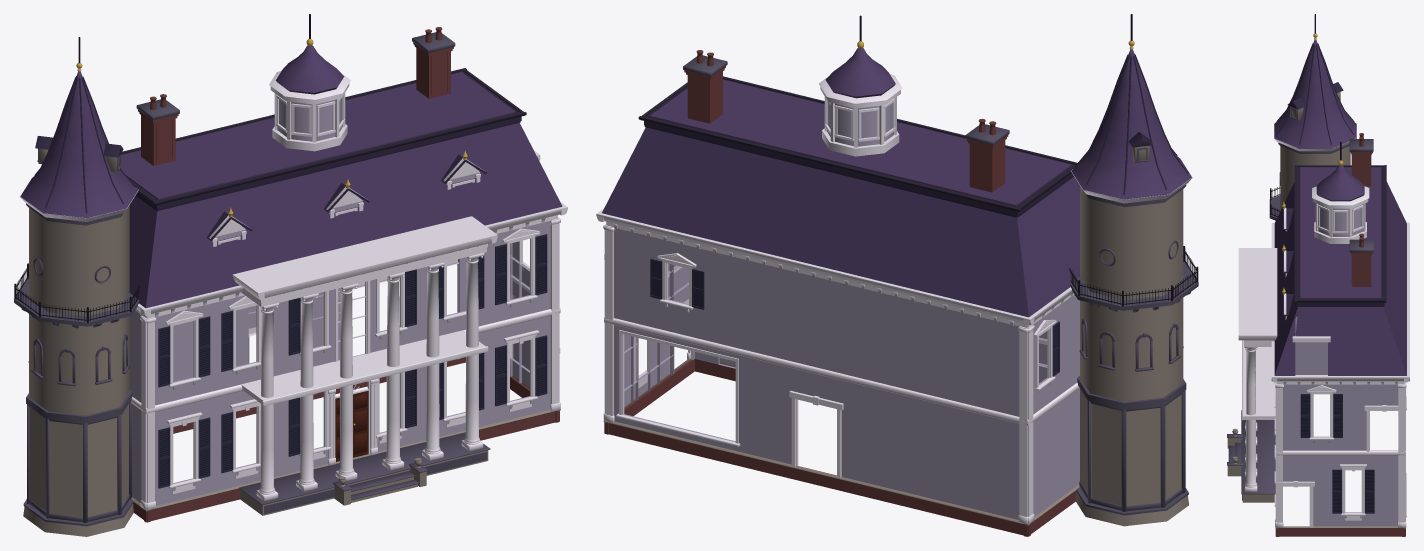
Rendered from exterior.glb.
3 renders of one model, left to right at view 1: azimuth 30°, elevation 25°; view 2: azimuth 150°, elevation 25°; view 3: azimuth 270°, elevation 25°, orthographic. The views are drawn at different scales.
Visible parts, largest first — view 1: Ext_front, Ext_mansard-front, Ext_roof, Ext_tower-upper, Ext_porch, Ext_back, Ext_tower7, Ext_tower0, Ext_left, Ext_right, Ext_mansard-left, Ext_tower6 (+3 smaller); view 2: Ext_back, Ext_mansard-back, Ext_roof, Ext_tower-upper, Ext_left, Ext_mansard-left, Ext_right, Ext_tower5, Ext_tower4, Ext_tower6, Ext_tower-base, Ext_front (+2 smaller); view 3: Ext_right, Ext_roof, Ext_front, Ext_tower-upper, Ext_mansard-right, Ext_mansard-back, Ext_mansard-front, Ext_porch, Ext_left, Ext_back.
Part boxes in pixels (x1,y1,x2,y2): Ext_front: (140,207,566,522); Ext_mansard-front: (146,121,562,308); Ext_roof: (120,14,526,209); Ext_tower-upper: (14,37,139,423); Ext_porch: (239,432,490,515); Ext_back: (173,257,466,433); Ext_tower7: (49,420,87,522); Ext_tower0: (87,414,121,521); Ext_left: (129,303,150,522); Ext_right: (510,202,567,422); Ext_mansard-left: (129,195,157,307); Ext_tower6: (28,406,49,518); Ext_back: (596,214,1034,536); Ext_mansard-back: (602,125,1028,317); Ext_roof: (638,15,1077,216); Ext_tower-upper: (1070,14,1198,410); Ext_left: (1023,287,1079,536); Ext_mansard-left: (1017,176,1080,316); Ext_right: (596,208,694,434); Ext_tower5: (1126,405,1165,511); Ext_tower4: (1091,402,1126,511); Ext_tower6: (1165,390,1185,505); Ext_tower-base: (1076,487,1188,526); Ext_front: (695,331,1047,383); Ext_right: (1271,375,1409,536); Ext_roof: (1294,133,1386,305); Ext_front: (1238,225,1279,536); Ext_tower-upper: (1269,14,1356,220); Ext_mansard-right: (1274,306,1406,375); Ext_mansard-back: (1382,181,1406,374); Ext_mansard-front: (1274,182,1314,374); Ext_porch: (1227,410,1275,502); Ext_left: (1271,222,1409,374); Ext_back: (1402,225,1409,536).
Size of the model in its own units: 34.96 by 31.05 by 14.44.
